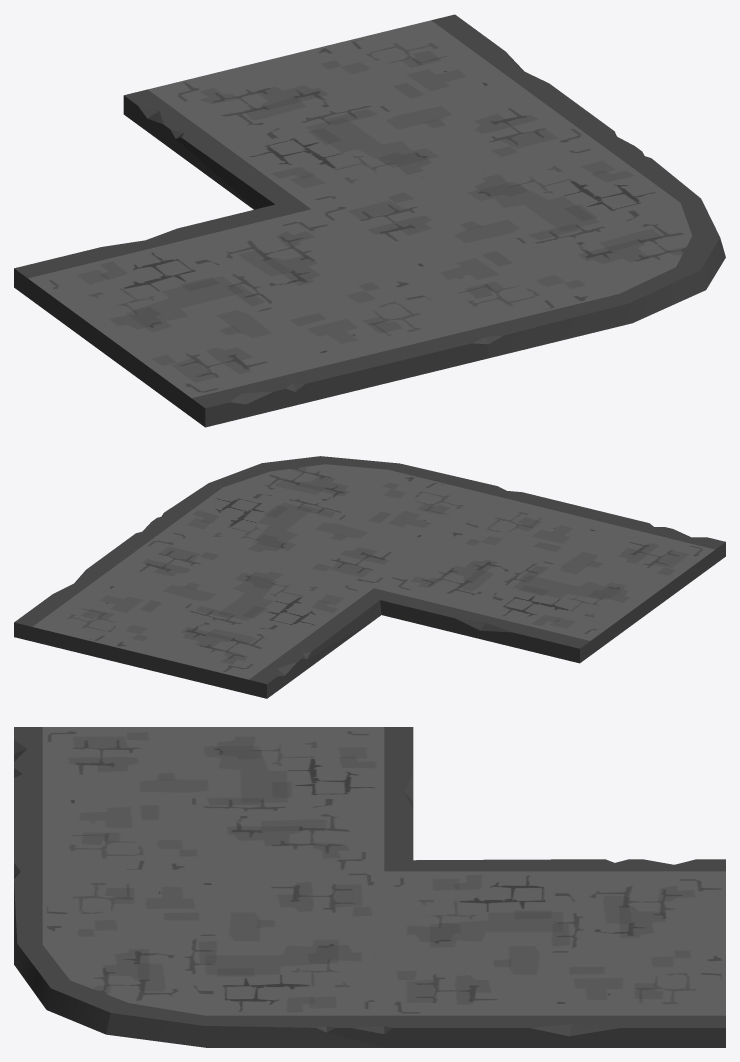
File: SM_Env_City_Footpath_Corner_01.fbx
The picture shows the model from 3 angles, top to bottom: view 1: azimuth 30°, elevation 25°; view 2: azimuth 150°, elevation 25°; view 3: azimuth 270°, elevation 25°; orthographic projection. The views are drawn at different scales.
Visible parts, largest first — view 1: SM_Env_City_Footpath_Corner_01; view 2: SM_Env_City_Footpath_Corner_01; view 3: SM_Env_City_Footpath_Corner_01.
Part boxes in pixels (x1,y1,x2,y2): SM_Env_City_Footpath_Corner_01: [14, 14, 725, 427]; SM_Env_City_Footpath_Corner_01: [14, 456, 725, 698]; SM_Env_City_Footpath_Corner_01: [14, 727, 725, 1047].
Bounding box in the file's own units: 5.21 × 0.1616 × 5.21.
